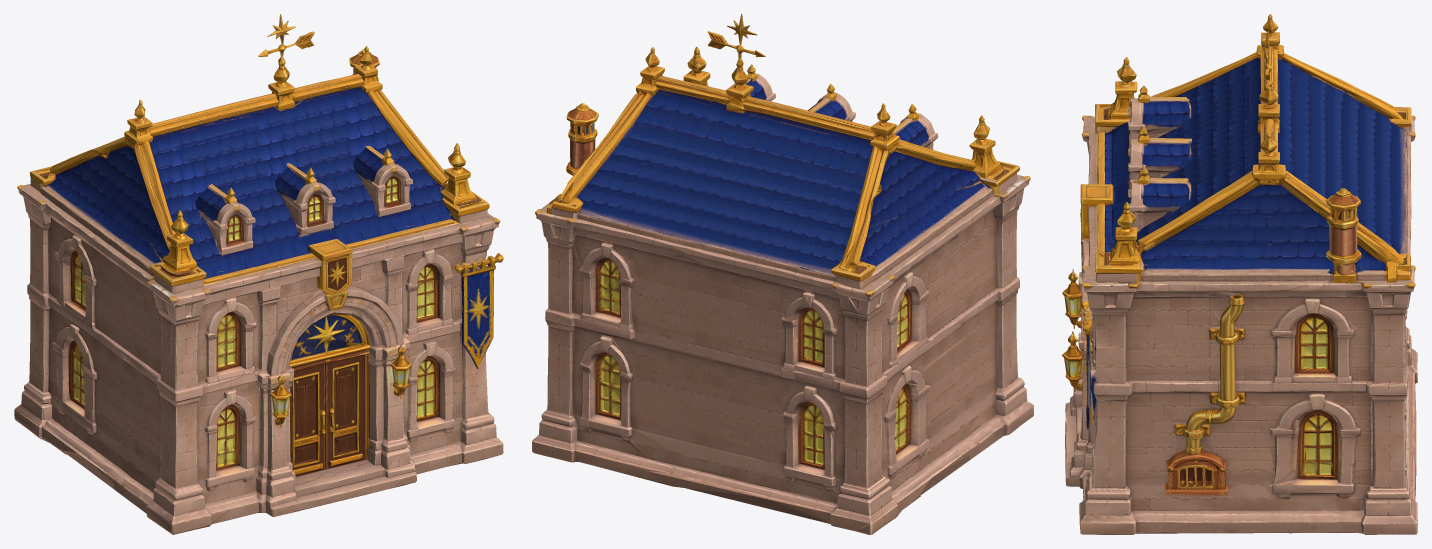
Rendered from workshops.glb.
3 views of the same model, side by side, from view 1: azimuth 30°, elevation 25°; view 2: azimuth 150°, elevation 25°; view 3: azimuth 270°, elevation 25° (orthographic). The views are drawn at different scales.
Parts seen in each view (by area): view 1: Mesh_0; view 2: Mesh_0; view 3: Mesh_0.
Boxes of the visible parts, left/top/right/bottom form: Mesh_0: left=14, top=14, right=503, bottom=534; Mesh_0: left=532, top=14, right=1033, bottom=534; Mesh_0: left=1062, top=14, right=1417, bottom=534.
Bounding box in the file's own units: 1.62 × 1.9 × 1.41.
Materials: 1 (1 with a texture image).
